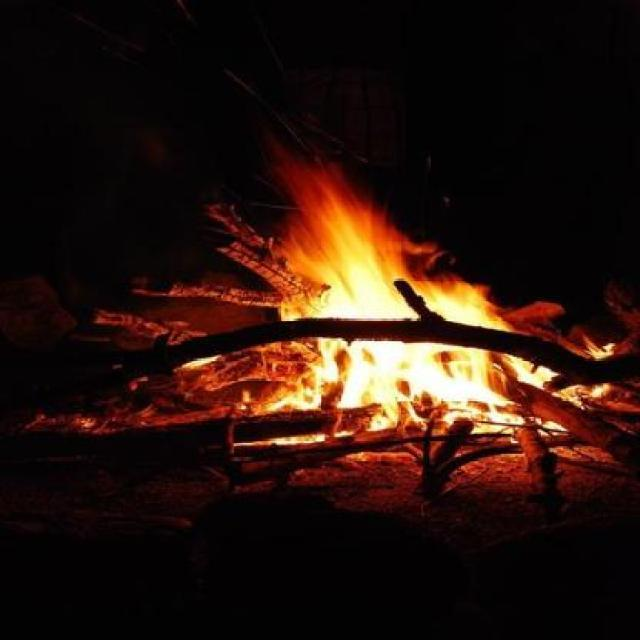Fire: (152, 164, 598, 448)
